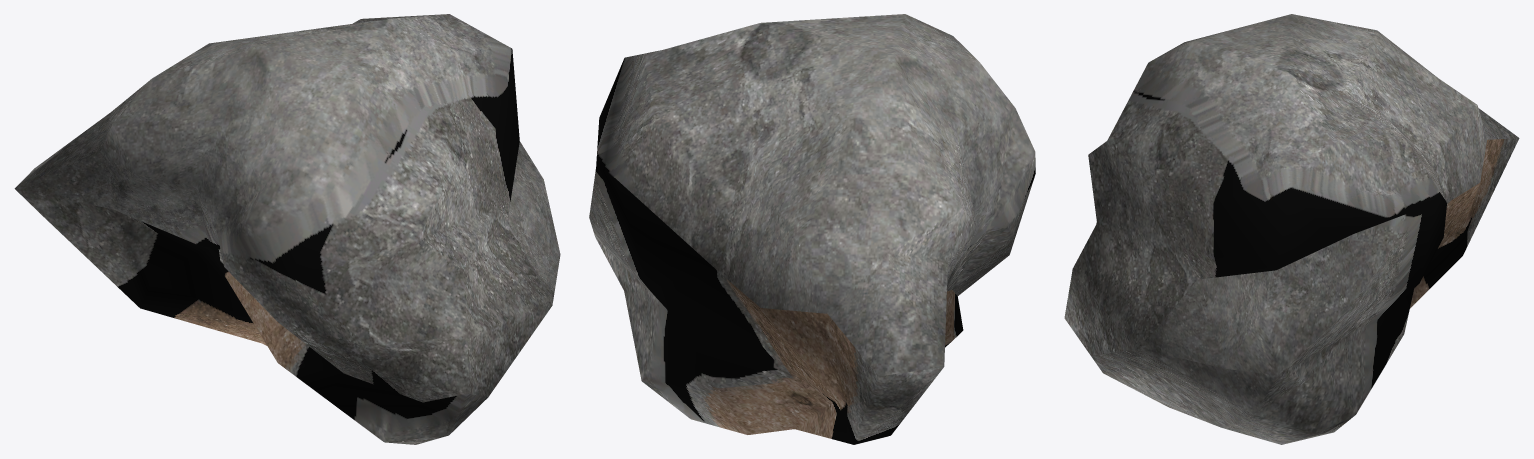
Rendered from asteroid3.fbx.
3 renders of one model, left to right at view 1: azimuth 30°, elevation 25°; view 2: azimuth 150°, elevation 25°; view 3: azimuth 270°, elevation 25°, orthographic. The views are drawn at different scales.
Visible parts, largest first — view 1: PipelineFBX; view 2: PipelineFBX; view 3: PipelineFBX.
Boxes of the visible parts, x1,y1,x2,y2 form: PipelineFBX: [14, 14, 560, 444]; PipelineFBX: [589, 14, 1035, 444]; PipelineFBX: [1064, 14, 1519, 444].
Size of the model in its own units: 513 by 422 by 494.
Materials: 1 (1 with a texture image).
